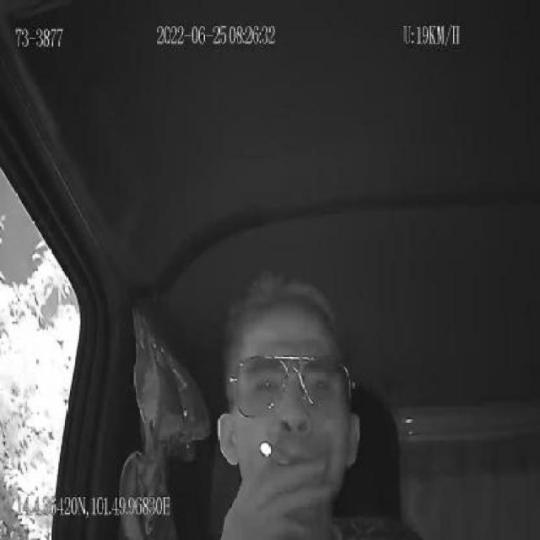smoking: (260, 436, 299, 473)
